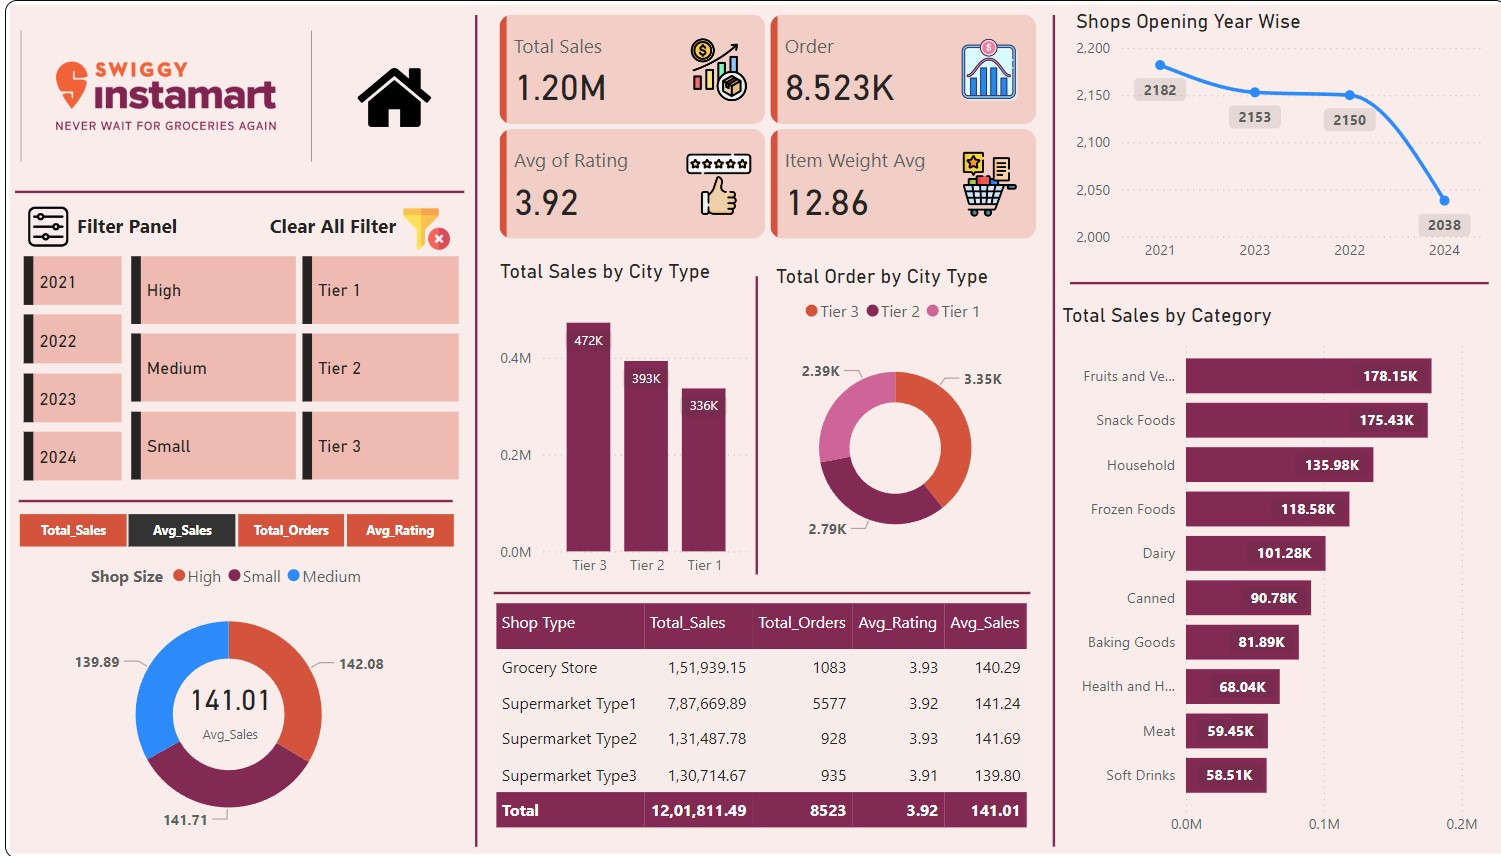

The page's visual inventory and layout, read from the dashboard file:
{"tool":"powerbi","page":{"name":"INSTAMART DASHBOARD","canvas":[1280,720],"ordinal":0},"visuals":[{"type":"shape","box":[8.8,0,1260,720],"z":0},{"type":"cardVisual","fields":{"Data":["Sum(Grocery Shop.Sales)","CountNonNull(Grocery Shop.Item Code)","Avg(Grocery Shop.Rating)","Avg(Grocery Shop.Item Weight)"]},"box":[418.6,7,460.5,198.8],"z":1000},{"type":"image","box":[16.3,20.9,253.5,119.8],"z":2000},{"type":"shape","box":[16.3,144.2,376.7,32.6],"z":3000},{"type":"clusteredColumnChart","title":"Total Sales by City Type","fields":{"Category":["Grocery Shop.Shop City Type"],"Y":["Sum(Grocery Shop.Sales)"]},"box":[418.6,217.4,220.9,275.6],"z":4000},{"type":"donutChart","title":"Sales by City Type","fields":{"Y":["Grocery Shop.Total_Sales"],"Category":["Grocery Shop.Shop Size"]},"box":[8.1,462.8,375.6,244.2],"z":5000},{"type":"advancedSlicerVisual","fields":{"Values":["Grocery Shop.Shop Size"]},"box":[114,215.1,138.4,188.4],"z":6000},{"type":"advancedSlicerVisual","fields":{"Values":["Grocery Shop.Shop Opening Year"]},"box":[24.4,215.1,82.6,188.4],"z":7000},{"type":"lineChart","title":"Shops Opening Year Wise","fields":{"Category":["Grocery Shop.Shop Opening Year"],"Y":["CountNonNull(Grocery Shop.Shop Opening Year)"]},"box":[901.1,7.8,351.1,221.1],"z":8000},{"type":"image","box":[297.5,46.2,73.8,71.2],"z":9000},{"type":"shape","box":[19.8,389.5,364,60.5],"z":10000},{"type":"slicer","fields":{"Values":["Metrics.Metrics"]},"box":[0,429.1,403.5,31.4],"z":11000},{"type":"cardVisual","fields":{"Data":["Grocery Shop.Total_Sales"]},"box":[124.4,557,145.3,82.6],"z":12000},{"type":"shape","box":[629.1,231.4,19.8,250],"z":13000},{"type":"shape","box":[418.6,482.6,450,30.2],"z":14000},{"type":"donutChart","title":"Total Order by City Type","fields":{"Y":["Grocery Shop.Total_Orders"],"Category":["Grocery Shop.Shop City Type"]},"box":[650,220.9,210.5,260.5],"z":15000},{"type":"clusteredBarChart","title":"Total Sales by Category","fields":{"Category":["Grocery Shop.Category"],"Y":["Sum(Grocery Shop.Sales)"]},"box":[889.5,253.5,382.6,455.8],"z":16000},{"type":"tableEx","fields":{"Values":["Grocery Shop.Shop Type","Grocery Shop.Total_Sales","Grocery Shop.Total_Orders","Grocery Shop.Avg_Rating","Grocery Shop.Avg_Sales"]},"box":[414,501.2,457,211.6],"z":17000},{"type":"advancedSlicerVisual","fields":{"Values":["Grocery Shop.Shop City Type"]},"box":[258.1,215.1,131.4,188.4],"z":18000},{"type":"textbox","box":[24.4,173.3,189.5,32.6],"z":19000},{"type":"image","box":[23.3,167.4,43,44.2],"z":20000},{"type":"textbox","box":[225.6,173.3,124.4,32.6],"z":21000},{"type":"image","box":[334.9,167.4,54.7,48.8],"z":22000},{"type":"shape","box":[901.2,221.2,351.2,32.5],"z":23000},{"type":"shape","box":[393,12.8,20.9,697.7],"z":24000},{"type":"shape","box":[877.5,12.5,21.2,697.5],"z":25000}]}

Visuals, with their boxes in screenshot pixels (x1, y1, x2, y2), scaled from the page's 1280x720 canvas onto the 1501x856 screenshot:
shape: 10, 0, 1488, 855
cardVisual - Sum(Grocery Shop.Sales) x CountNonNull(Grocery Shop.Item Code): 491, 8, 1031, 245
image: 19, 25, 316, 167
shape: 19, 171, 461, 210
"Total Sales by City Type" clusteredColumnChart: 491, 258, 750, 586
"Sales by City Type" donutChart: 9, 550, 450, 841
advancedSlicerVisual - Grocery Shop.Shop Size: 134, 256, 296, 480
advancedSlicerVisual - Grocery Shop.Shop Opening Year: 29, 256, 125, 480
"Shops Opening Year Wise" lineChart: 1057, 9, 1468, 272
image: 349, 55, 435, 140
shape: 23, 463, 450, 535
slicer - Metrics.Metrics: 0, 510, 473, 547
cardVisual - Grocery Shop.Total_Sales: 146, 662, 316, 760
shape: 738, 275, 761, 572
shape: 491, 574, 1019, 610
"Total Order by City Type" donutChart: 762, 263, 1009, 572
"Total Sales by Category" clusteredBarChart: 1043, 301, 1492, 843
tableEx - Grocery Shop.Shop Type x Grocery Shop.Total_Sales: 485, 596, 1021, 847
advancedSlicerVisual - Grocery Shop.Shop City Type: 303, 256, 457, 480
textbox: 29, 206, 251, 245
image: 27, 199, 78, 252
textbox: 265, 206, 410, 245
image: 393, 199, 457, 257
shape: 1057, 263, 1469, 302
shape: 461, 15, 485, 845
shape: 1029, 15, 1054, 844
